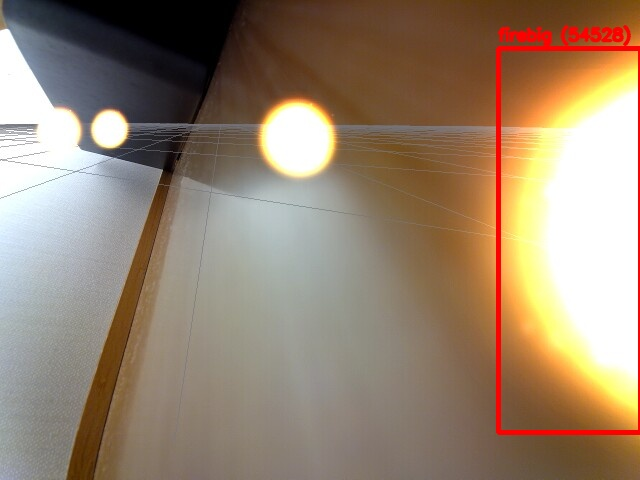firebig: (498, 48, 640, 432)
